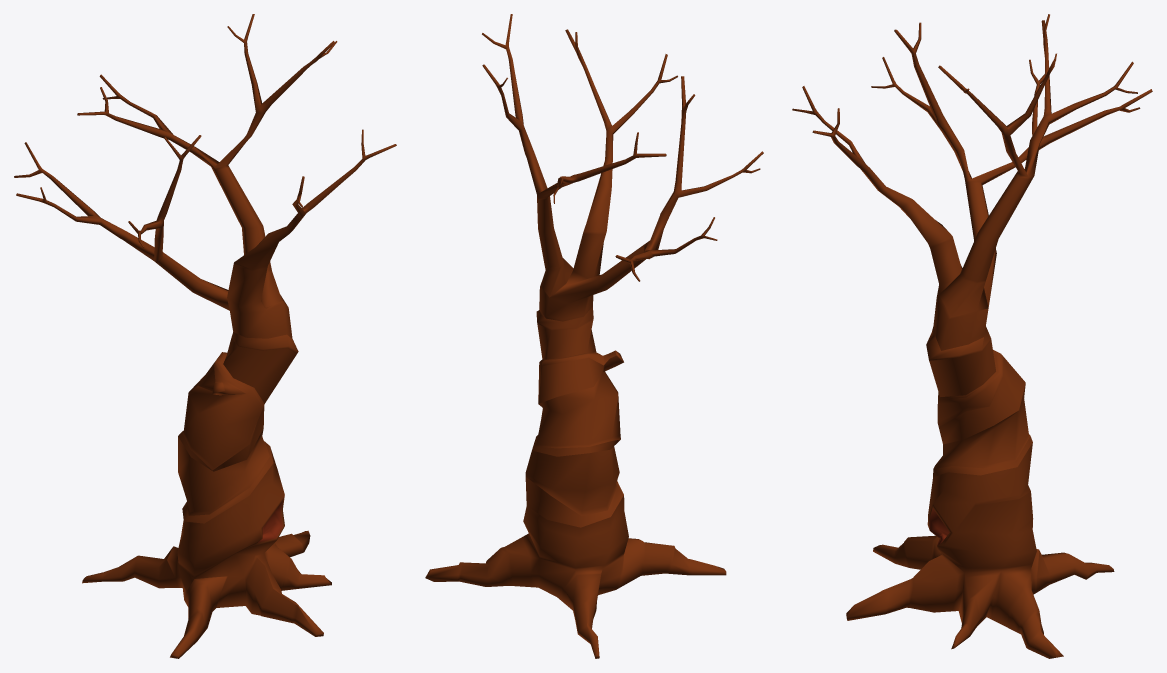
Rendered from HWN20_Tree_02.gltf.
The picture shows the model from 3 angles, left to right: view 1: azimuth 30°, elevation 25°; view 2: azimuth 150°, elevation 25°; view 3: azimuth 270°, elevation 25°; orthographic projection. The views are drawn at different scales.
Visible parts, largest first — view 1: HWN20_Tree_02_glb; view 2: HWN20_Tree_02_glb; view 3: HWN20_Tree_02_glb.
Boxes of the visible parts, x1=… form: HWN20_Tree_02_glb: x1=14, y1=14, x2=396, y2=658; HWN20_Tree_02_glb: x1=425, y1=14, x2=763, y2=658; HWN20_Tree_02_glb: x1=792, y1=14, x2=1152, y2=658.
Size of what is drawn, in the model's own units: 2.72 by 4.92 by 2.71.
Materials: 1 (1 with a texture image).
